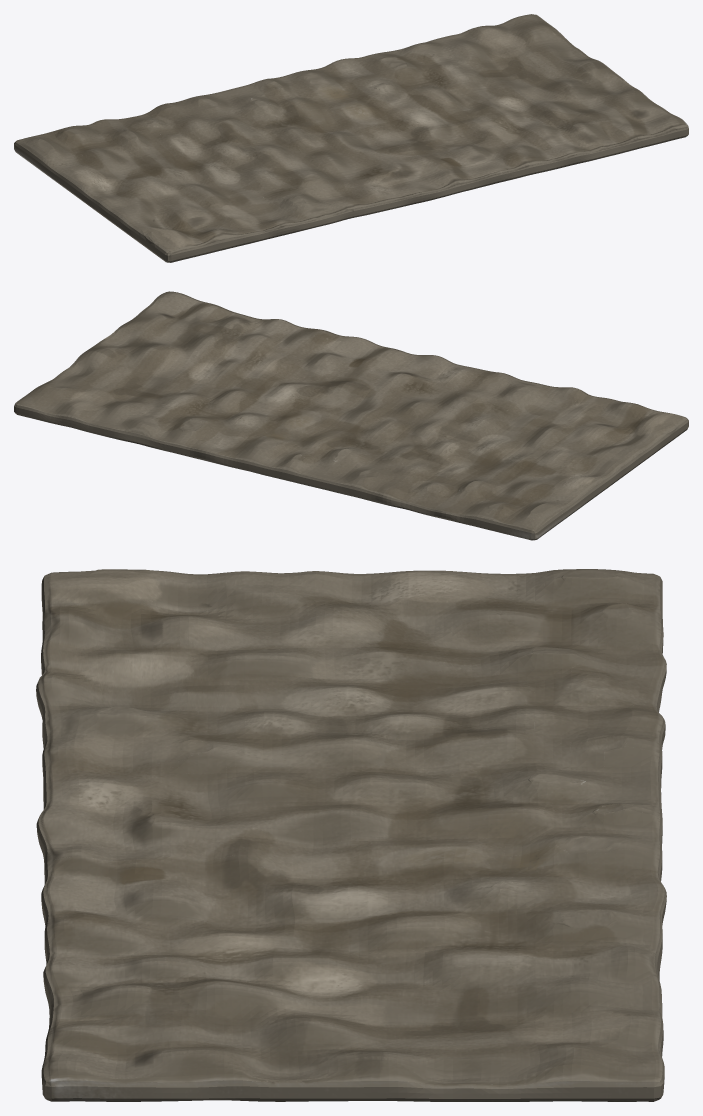
File: new_road.obj
3 renders of one model, top to bottom at view 1: azimuth 30°, elevation 25°; view 2: azimuth 150°, elevation 25°; view 3: azimuth 270°, elevation 25°, orthographic. The views are drawn at different scales.
Visible parts, largest first — view 1: Box_Box; view 2: Box_Box; view 3: Box_Box.
Boxes of the visible parts, bbox=[...] form: Box_Box: bbox=[14, 14, 688, 262]; Box_Box: bbox=[14, 291, 688, 540]; Box_Box: bbox=[36, 569, 666, 1101].
Bounding box in the file's own units: 152 × 5.32 × 79.11.
1 material, 1 textured.
